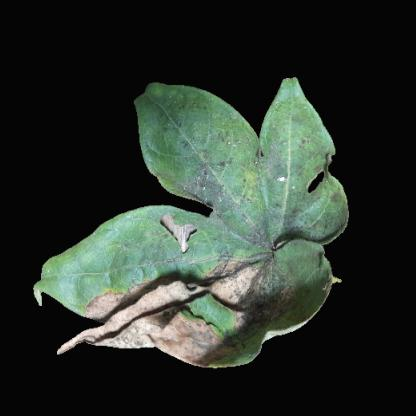curl_stage1: (70, 240, 116, 298)
sooty: (228, 214, 298, 300), (184, 132, 240, 207), (297, 194, 343, 237), (254, 140, 300, 183)
